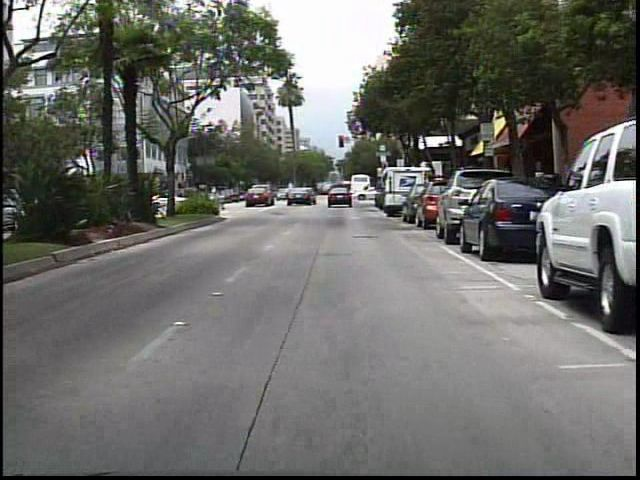person: (358, 180, 374, 202), (296, 183, 310, 205)
